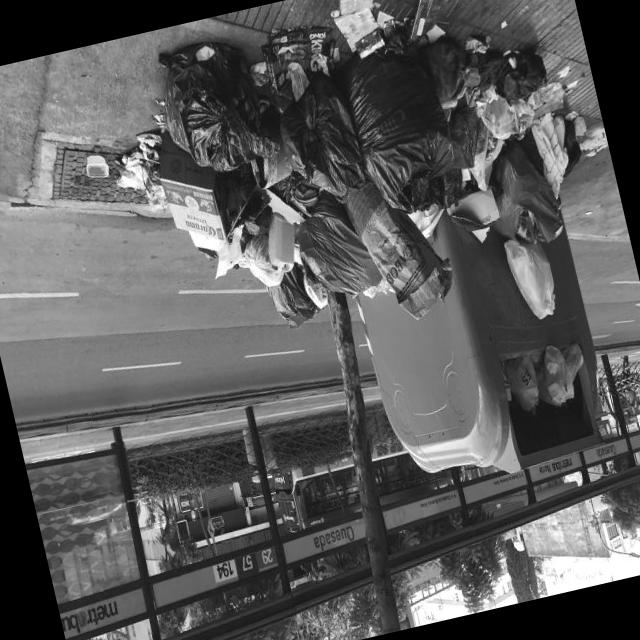high trash: (78, 0, 608, 325)
